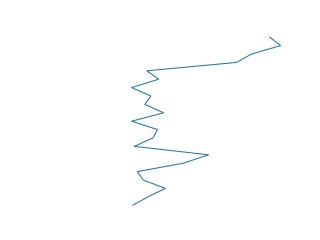crevasseRiverChannelBar: (125, 35, 285, 208)
